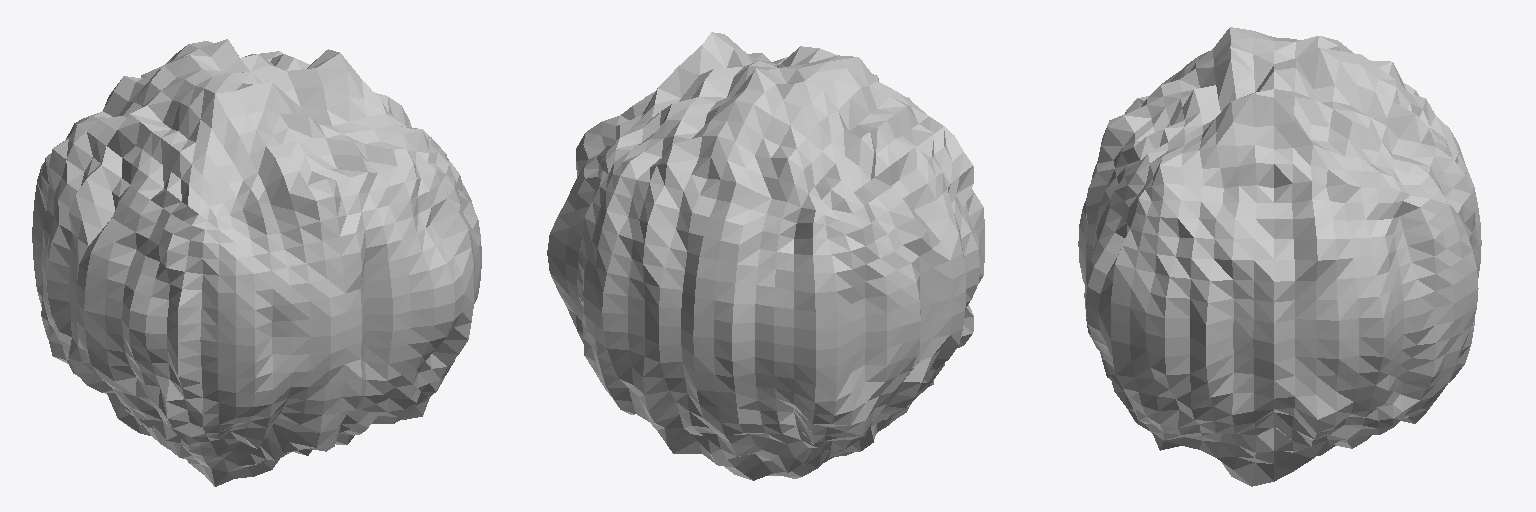
The model's file is asteroid196.obj.
The picture shows the model from 3 angles: view 1: azimuth 30°, elevation 25°; view 2: azimuth 150°, elevation 25°; view 3: azimuth 270°, elevation 25°; orthographic projection.
Visible parts, largest first — view 1: Cube_Cube.002; view 2: Cube_Cube.002; view 3: Cube_Cube.002.
Boxes of the visible parts, box(x1,y1,x2,y2) form: Cube_Cube.002: box(32, 39, 481, 486); Cube_Cube.002: box(547, 32, 984, 480); Cube_Cube.002: box(1078, 27, 1481, 486).
Bounding box in the file's own units: 1.79 × 1.89 × 1.69.